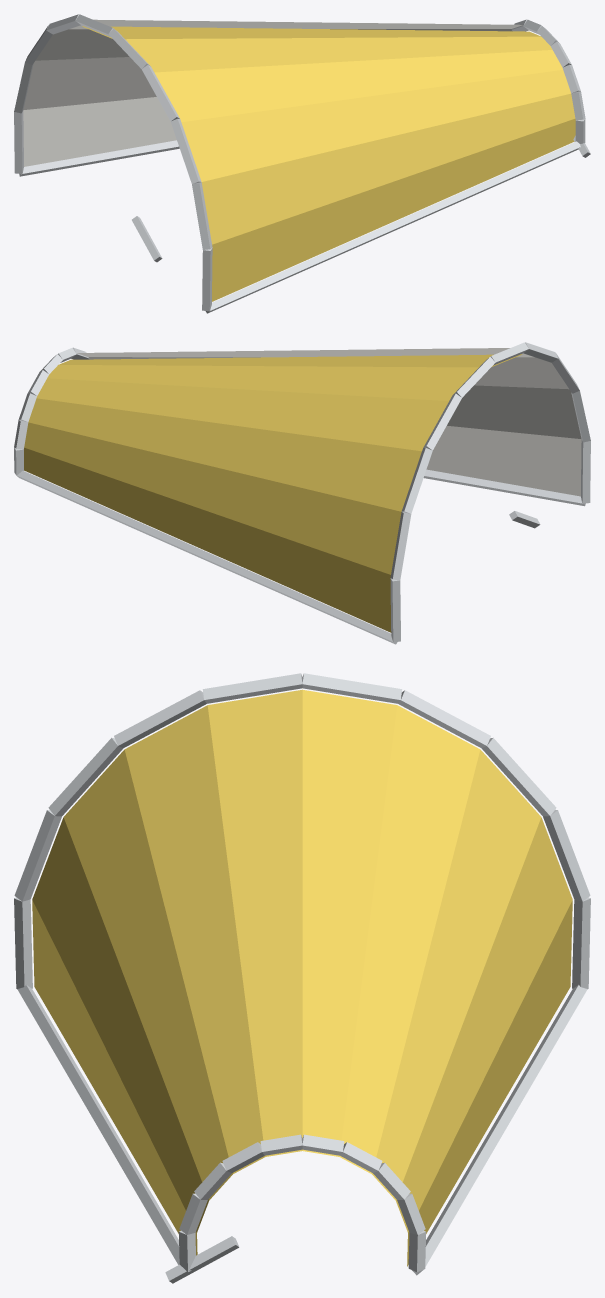
Rendered from hot-air-balloon-festival-balloon-inflation-scoop-4aede113__38485.glb.
The picture shows the model from 3 angles, top to bottom: view 1: azimuth 30°, elevation 25°; view 2: azimuth 150°, elevation 25°; view 3: azimuth 270°, elevation 25°; orthographic projection. The views are drawn at different scales.
Visible parts, largest first — view 1: balloon-inflation-scoop-canvasD, balloon-inflation-scoop-canvasB, balloon-inflation-scoop-steel; view 2: balloon-inflation-scoop-canvasD, balloon-inflation-scoop-canvasB, balloon-inflation-scoop-steel; view 3: balloon-inflation-scoop-canvasD, balloon-inflation-scoop-steel.
Part boxes in pixels (bbox=[...]): balloon-inflation-scoop-canvasD: bbox=[82, 26, 575, 301]; balloon-inflation-scoop-canvasB: bbox=[23, 19, 522, 166]; balloon-inflation-scoop-steel: bbox=[14, 14, 590, 313]; balloon-inflation-scoop-canvasD: bbox=[24, 354, 522, 632]; balloon-inflation-scoop-canvasB: bbox=[77, 348, 581, 496]; balloon-inflation-scoop-steel: bbox=[14, 342, 590, 644]; balloon-inflation-scoop-canvasD: bbox=[32, 689, 572, 1266]; balloon-inflation-scoop-steel: bbox=[14, 673, 590, 1283].
Size of the model in its own units: 2.25 by 1.07 by 1.73.
